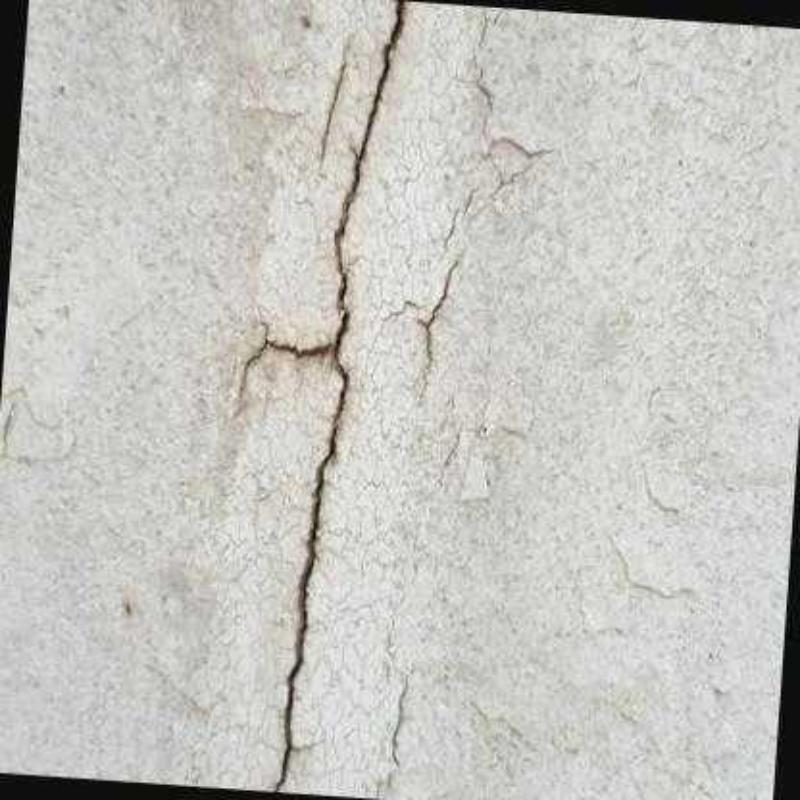crack: (275, 0, 406, 797), (234, 322, 328, 402), (417, 262, 460, 400), (608, 538, 694, 598), (487, 138, 556, 200), (318, 56, 350, 163), (442, 185, 481, 250), (390, 671, 412, 767), (640, 471, 683, 515), (475, 67, 496, 113), (381, 300, 423, 321)
